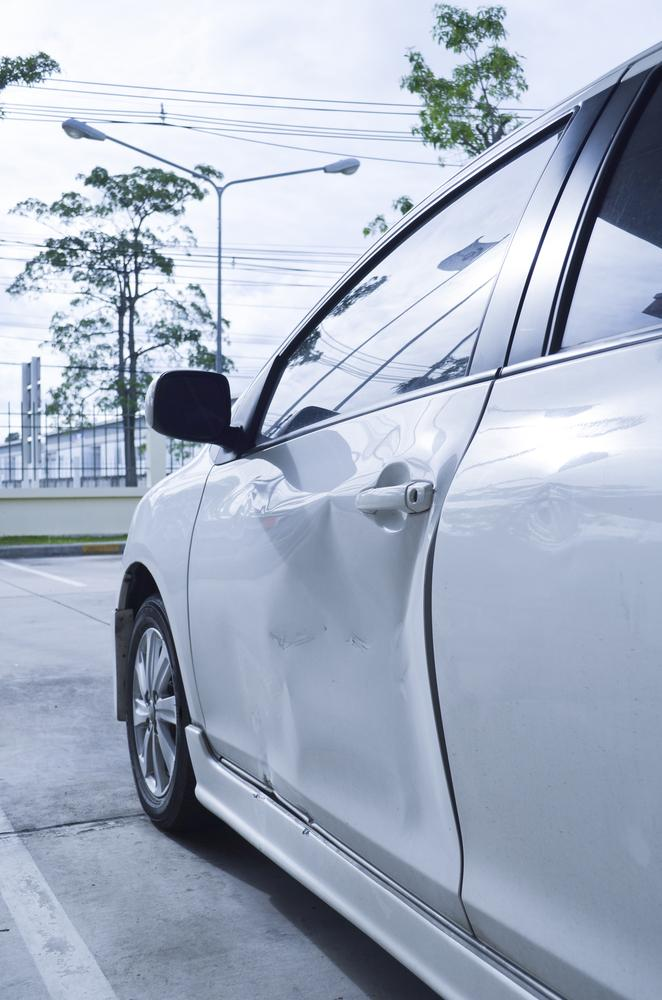dent: (266, 499, 426, 841), (525, 479, 580, 548)
